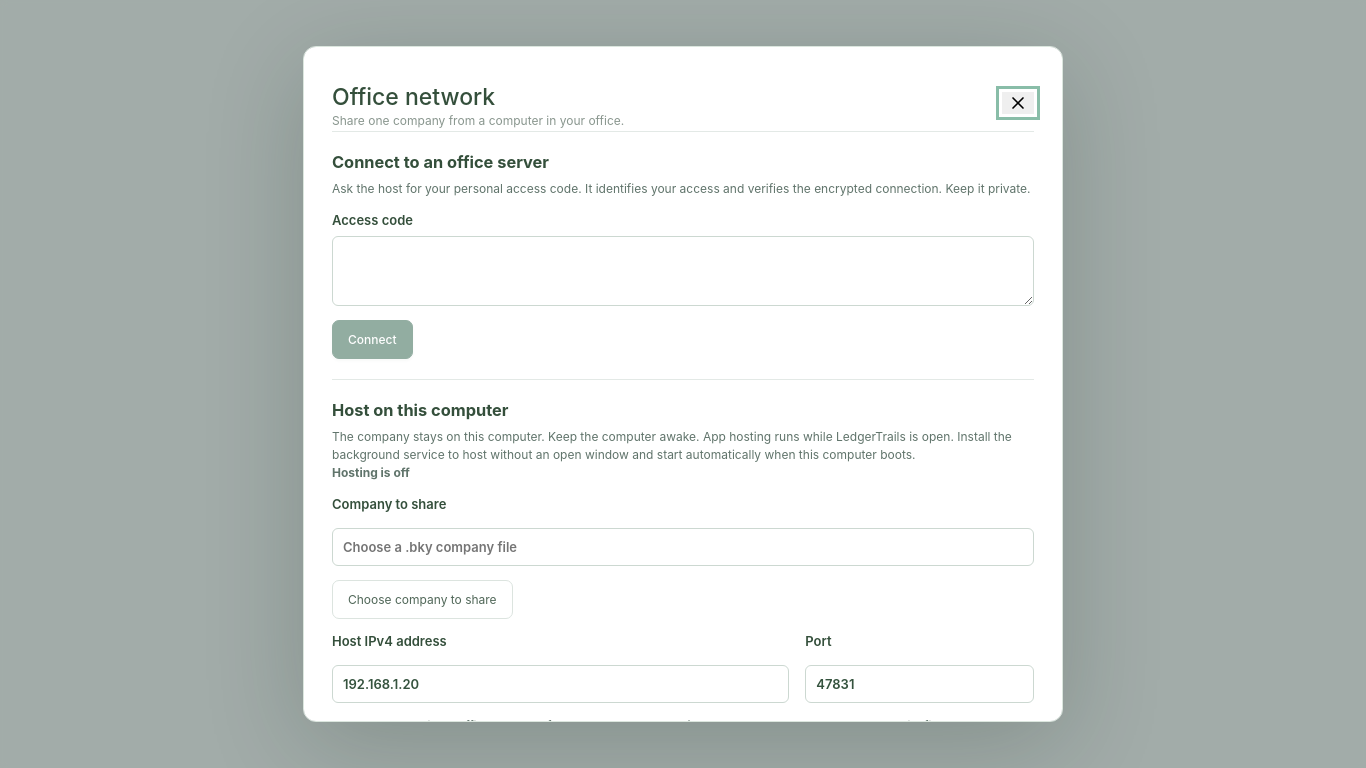
Scenario: failed pairing leaves local routing intact and does not replace the active book
Expected: the text "Hosting is off" is shown, [332,466,410,480]
Type "LT1-offline" into the text box labelled "Access code".
click(683, 272); type("LT1-offline")  # box [332,236,1034,306]
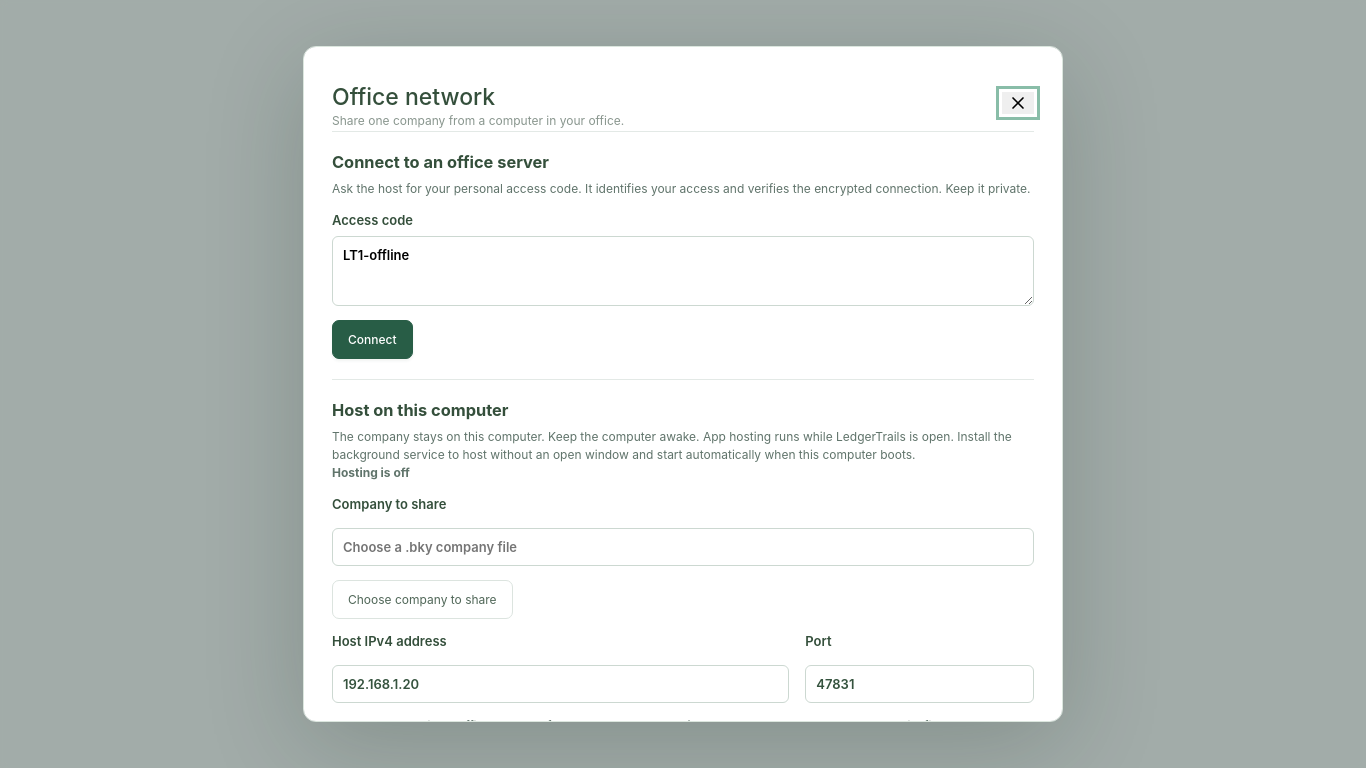
Click the button "Connect".
click(372, 340)  # box [332,320,412,360]
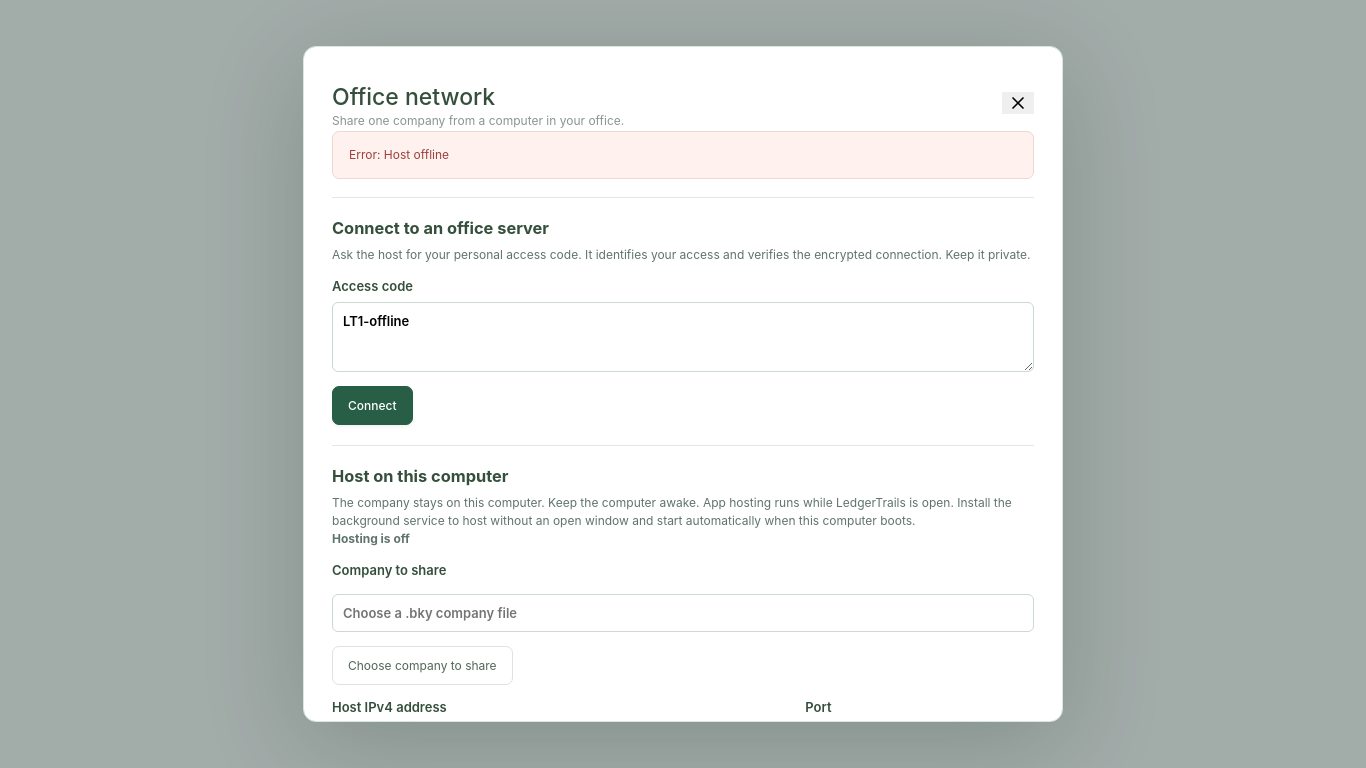
Expected: the message "Error: Host offline" is shown, [332,132,1034,179]
